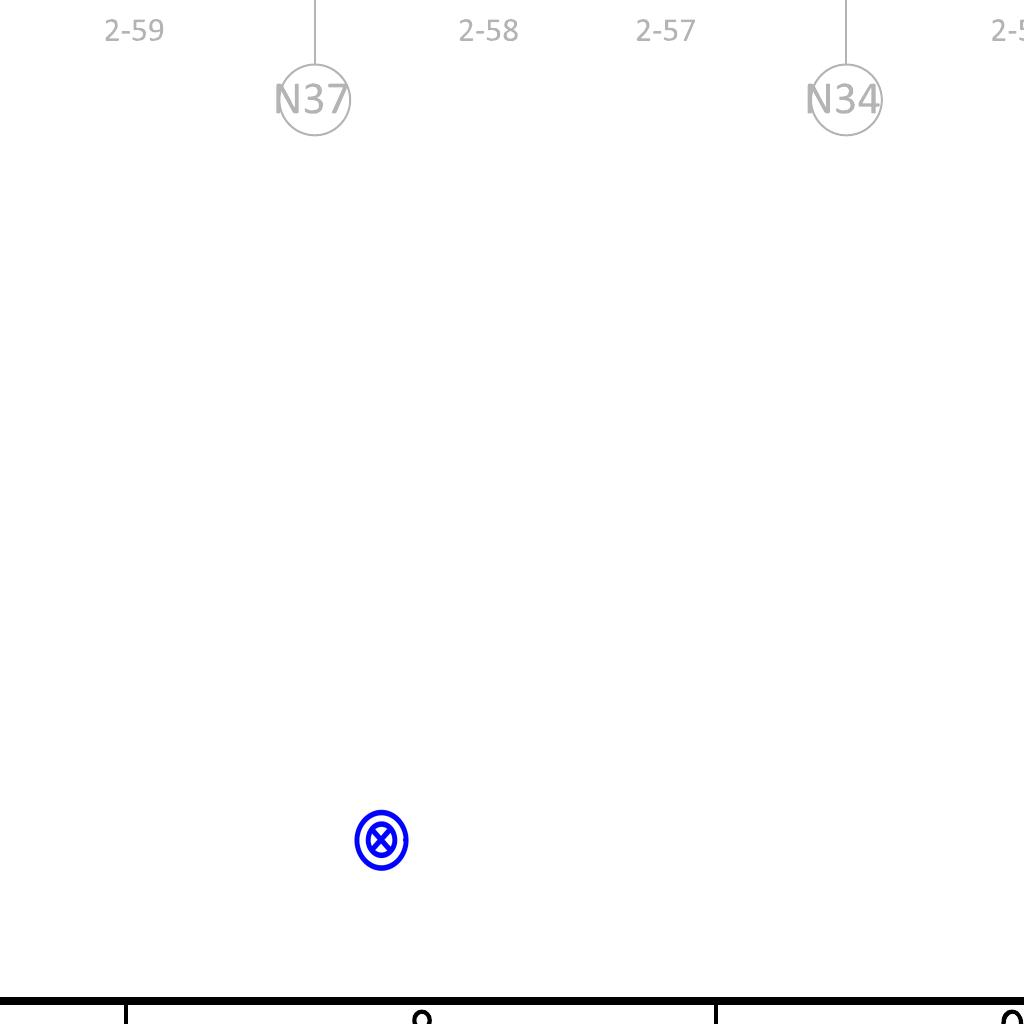Taster_beleuchtet: (348, 807, 414, 873)
